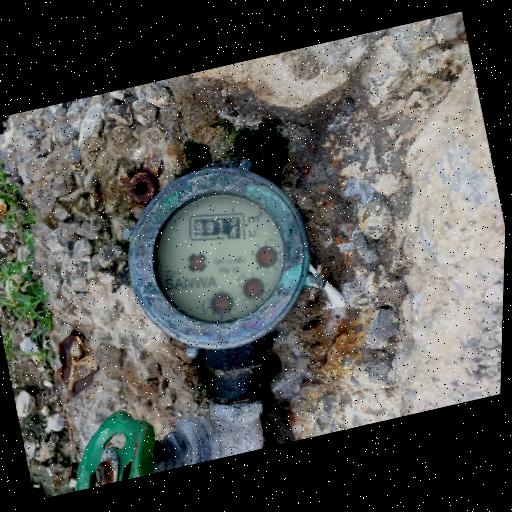1: (213, 215, 232, 237)
3: (223, 215, 245, 241)
9: (201, 217, 221, 238), (190, 217, 209, 239)
border_water_meter_number: (184, 203, 252, 251)
